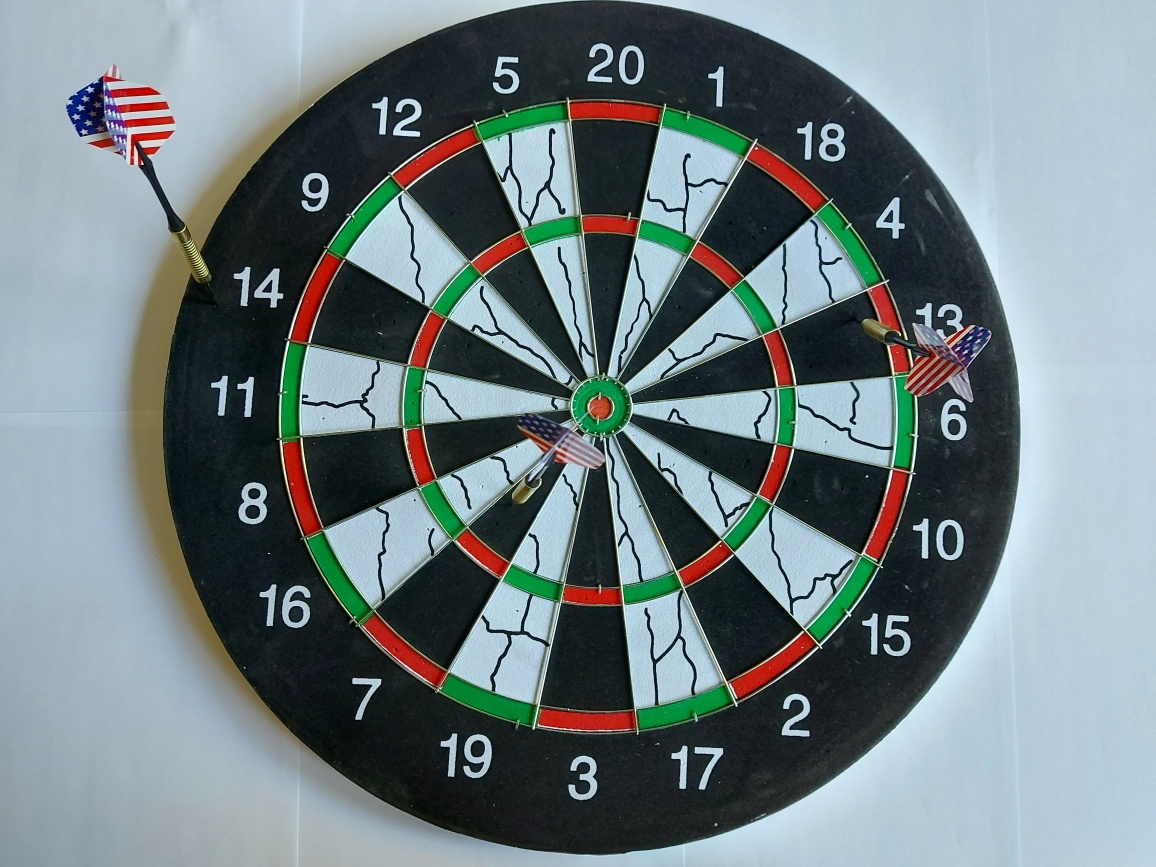Dart: (48, 52, 235, 323), (838, 286, 999, 431), (500, 402, 615, 515)
